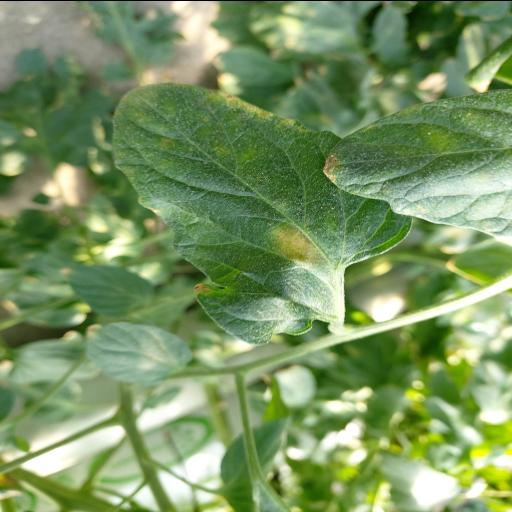Leaf Mold: (110, 80, 412, 344)
